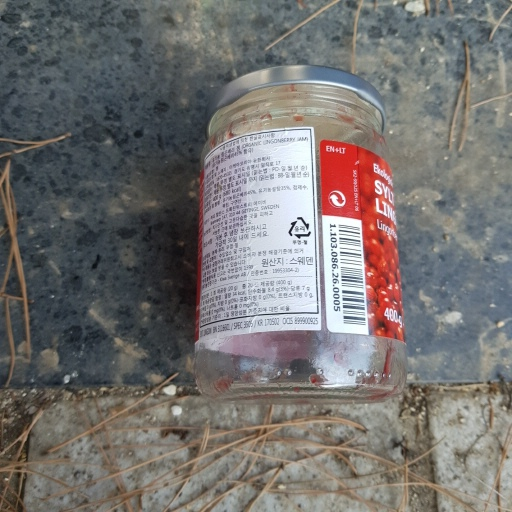Glass_5: (186, 57, 417, 408)
